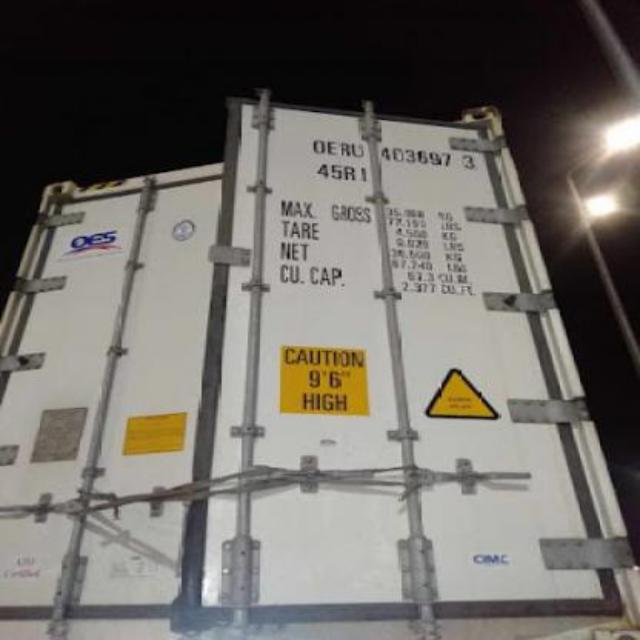0: (394, 148, 404, 162)
3: (464, 154, 480, 170), (406, 142, 416, 164)
4: (380, 145, 390, 165)
6: (416, 148, 429, 168)
7: (442, 143, 454, 169)
9: (430, 148, 442, 168)
E: (324, 140, 340, 162)
O: (304, 138, 328, 158)
R: (340, 138, 350, 160)
U: (350, 140, 368, 160)
